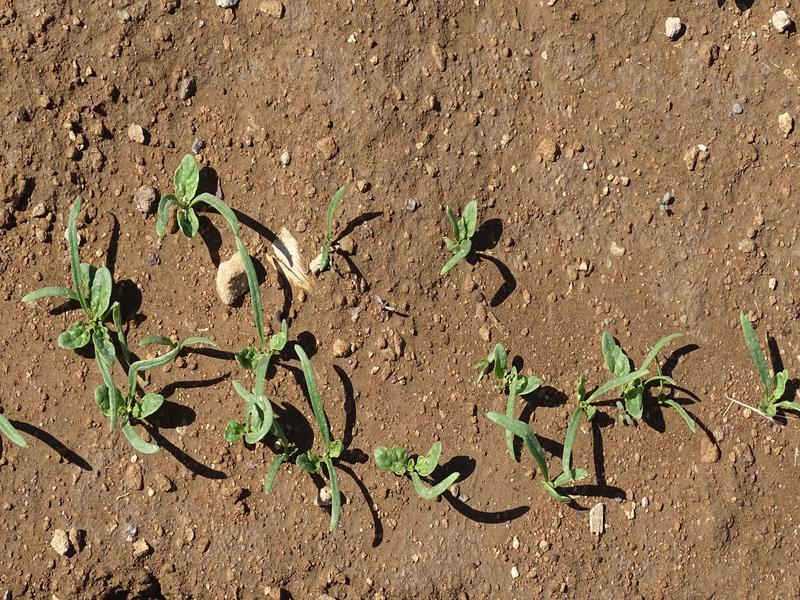Espinaca: (47, 206, 361, 530), (478, 316, 709, 505), (738, 309, 798, 429), (376, 439, 452, 500), (435, 201, 490, 263)
